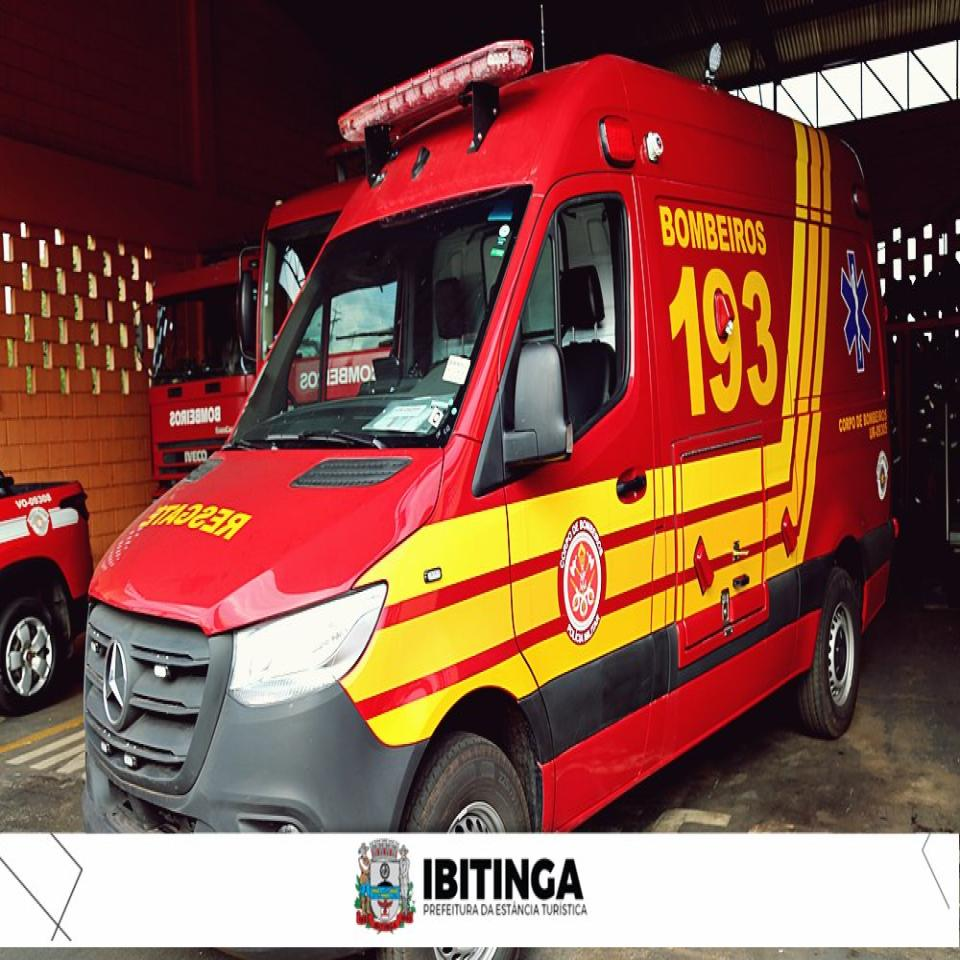viatura: (81, 36, 904, 960)
